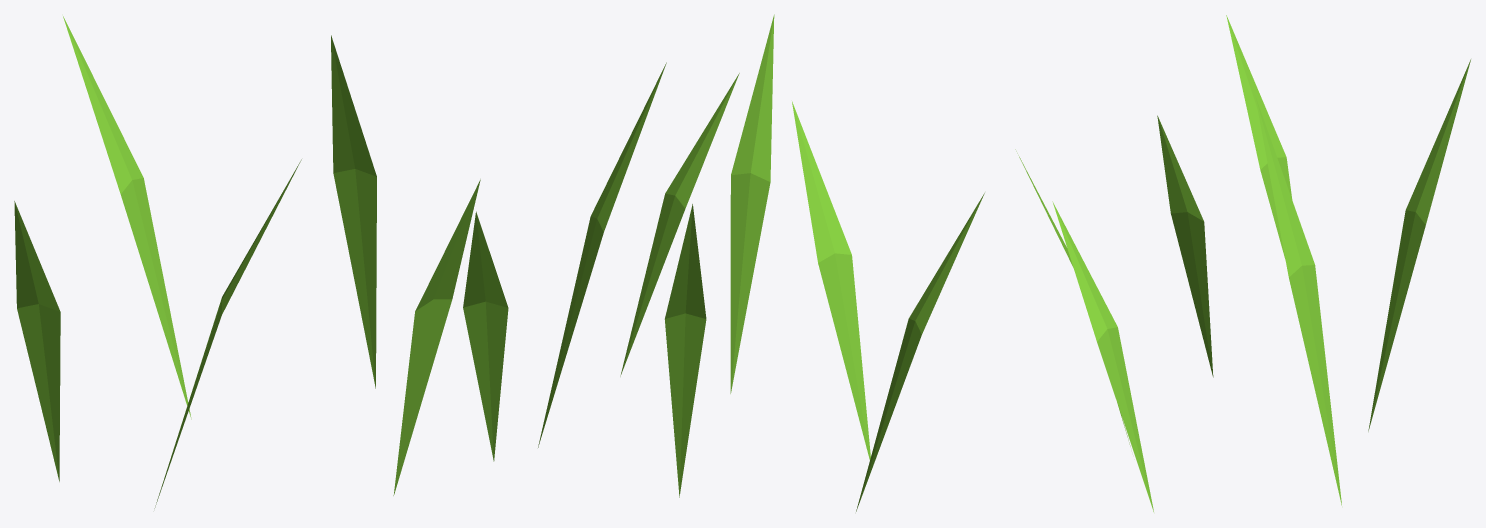
File: grass_tuft_b.fbx
3 views of the same model, side by side, from view 1: azimuth 30°, elevation 25°; view 2: azimuth 150°, elevation 25°; view 3: azimuth 270°, elevation 25° (orthographic). The views are drawn at different scales.
Visible parts, largest first — view 1: grass_tuft_b; view 2: grass_tuft_b; view 3: grass_tuft_b.
Part boxes in pixels (<box>): grass_tuft_b: <box>14,16,508,508</box>; grass_tuft_b: <box>538,14,984,511</box>; grass_tuft_b: <box>1015,15,1470,511</box>.
Bounding box in the file's own units: 0.5 × 0.45 × 0.5.
